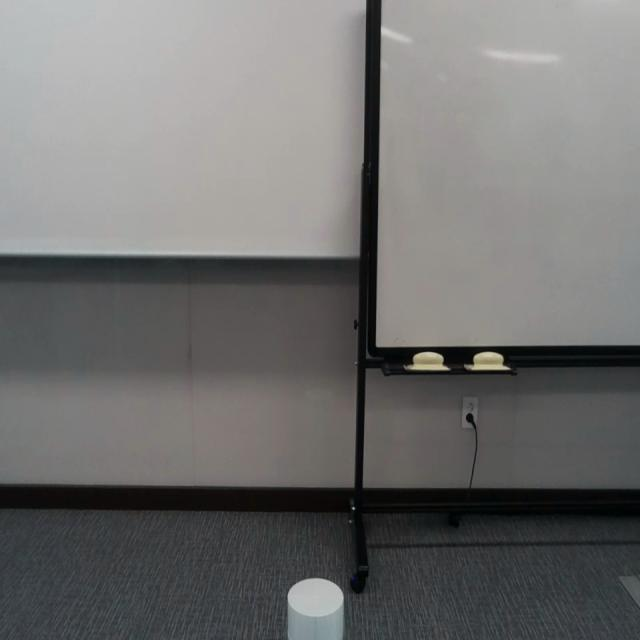cylinder: (287, 577, 345, 640)
